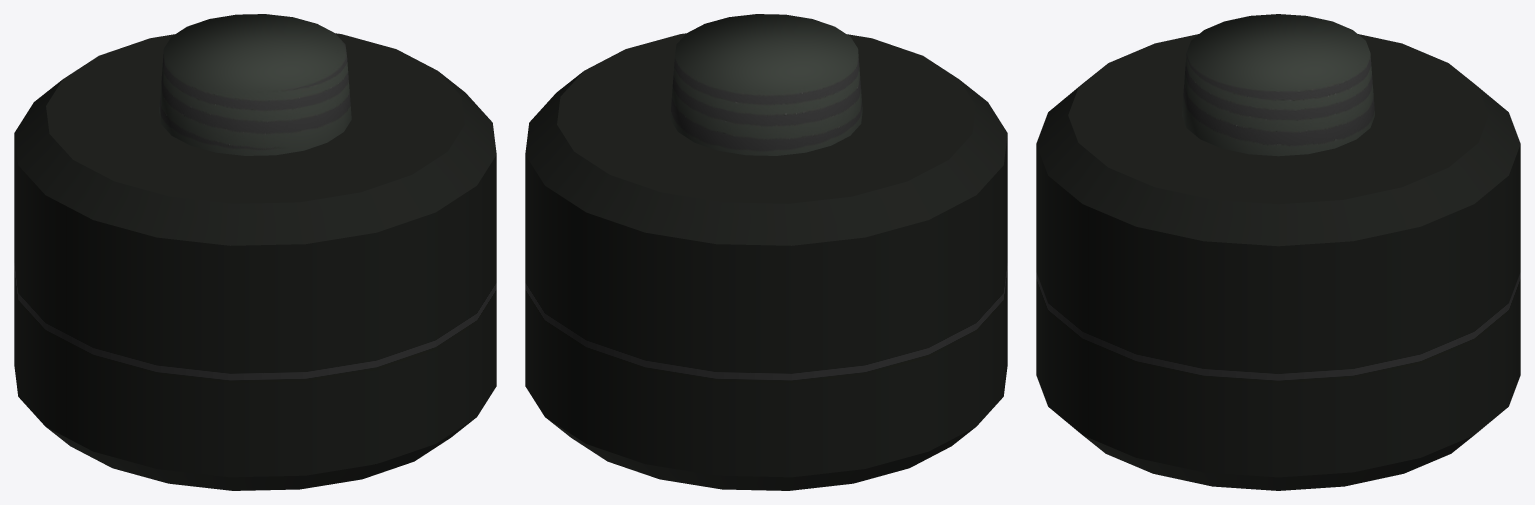
File: Filter.fbx
3 views of the same model, side by side, from view 1: azimuth 30°, elevation 25°; view 2: azimuth 150°, elevation 25°; view 3: azimuth 270°, elevation 25° (orthographic).
Visible parts, largest first — view 1: pCylinder1; view 2: pCylinder1; view 3: pCylinder1.
Boxes of the visible parts, bbox=[...] form: pCylinder1: bbox=[14, 14, 496, 490]; pCylinder1: bbox=[525, 14, 1007, 490]; pCylinder1: bbox=[1036, 14, 1520, 490].
Size of the model in its own units: 20 by 15.85 by 20.
1 material, 1 textured.
